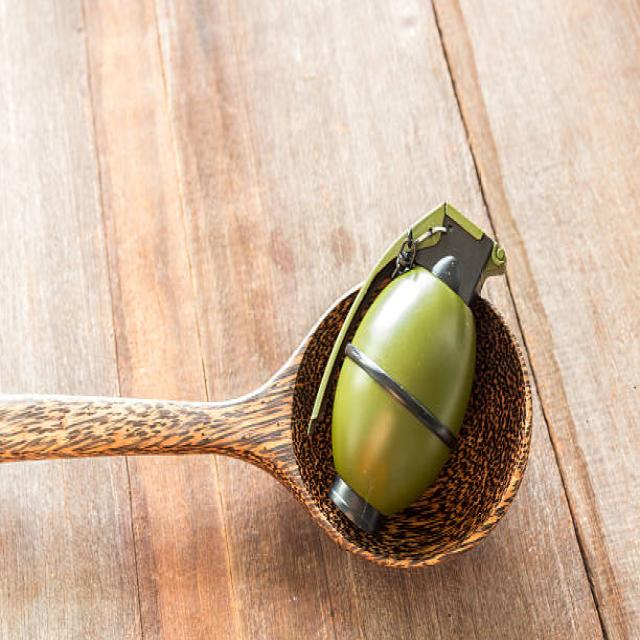grenade: (305, 196, 517, 552)
